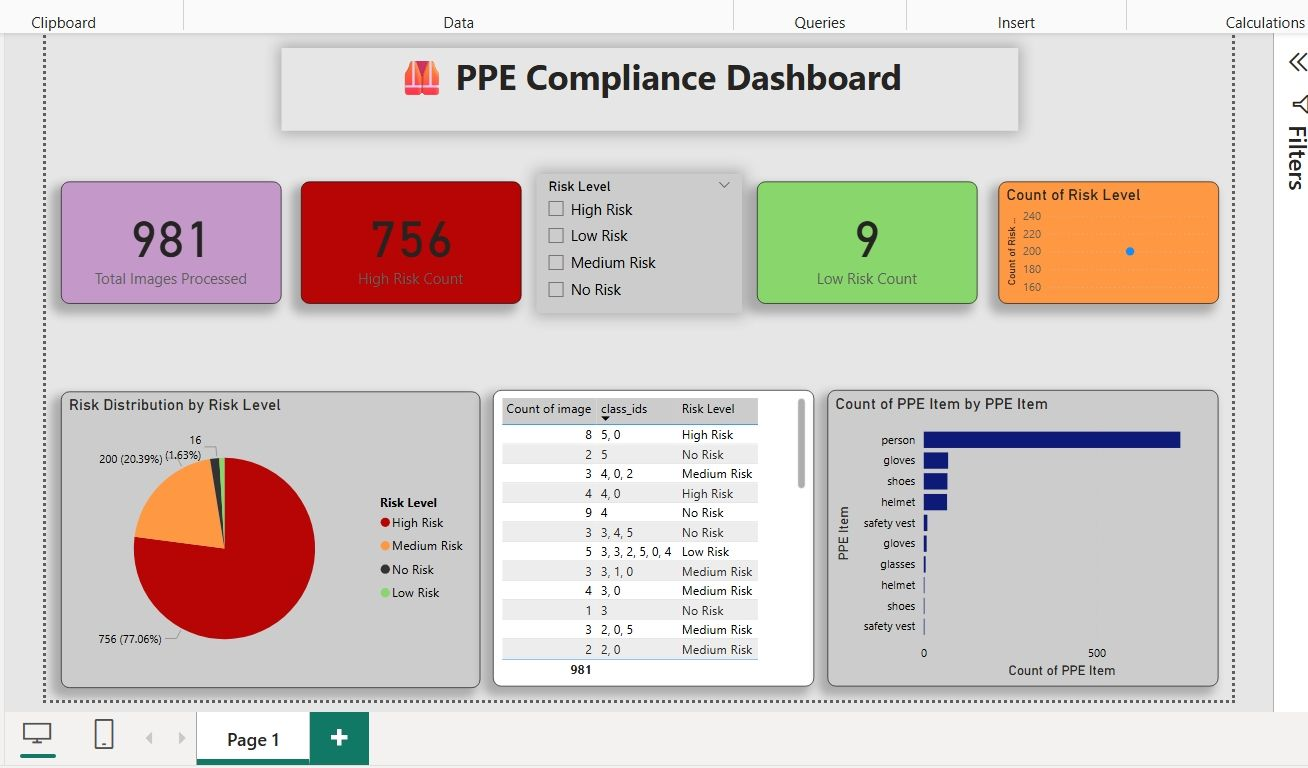

The page's visual inventory and layout, read from the dashboard file:
{"tool":"powerbi","page":{"name":"Page 1","canvas":[1280,720],"ordinal":0},"visuals":[{"type":"textbox","box":[253.9,16.1,795.5,89.4],"z":0},{"type":"card","fields":{"Values":["CountNonNull(Sheet1.image)"]},"box":[16.1,160.9,237.8,132.3],"z":1000},{"type":"card","fields":{"Values":["CountNonNull(Sheet1.Risk Level)"]},"box":[275.3,160.9,237.8,132.3],"z":2000},{"type":"stackedAreaChart","fields":{"Y":["CountNonNull(Sheet1.Risk Level)"]},"box":[1027.9,160.9,237.8,132.3],"z":3000},{"type":"card","fields":{"Values":["CountNonNull(Sheet1.Risk Level)"]},"box":[766.9,160.9,237.8,132.3],"z":4000},{"type":"pieChart","fields":{"Category":["Sheet1.Risk Level"],"Y":["CountNonNull(Sheet1.Risk Level)"]},"box":[16.2,386.4,452.6,320.3],"z":5000},{"type":"tableEx","fields":{"Values":["Sheet1.image","Sheet1.class_ids","Sheet1.Risk Level"]},"box":[482.7,386.1,346.8,320],"z":6000},{"type":"barChart","fields":{"Category":["Sheet1.PPE Item"],"Y":["CountNonNull(Sheet1.PPE Item)"]},"box":[843.8,386.1,421.9,320],"z":7000},{"type":"slicer","fields":{"Values":["Sheet1.Risk Level"]},"box":[529.2,152,221.7,150.2],"z":8000}]}

Visuals, with their boxes on the page's 1280x720 design canvas (x1, y1, x2, y2). These are canvas units, not pixel positions in the 1308x768 screenshot, which may show the page scaled, cropped or inside an application window:
textbox: x1=254, y1=16, x2=1049, y2=106
card - CountNonNull(Sheet1.image): x1=16, y1=161, x2=254, y2=293
card - CountNonNull(Sheet1.Risk Level): x1=275, y1=161, x2=513, y2=293
stackedAreaChart - CountNonNull(Sheet1.Risk Level): x1=1028, y1=161, x2=1266, y2=293
card - CountNonNull(Sheet1.Risk Level): x1=767, y1=161, x2=1005, y2=293
pieChart - Sheet1.Risk Level x CountNonNull(Sheet1.Risk Level): x1=16, y1=386, x2=469, y2=707
tableEx - Sheet1.image x Sheet1.class_ids: x1=483, y1=386, x2=830, y2=706
barChart - Sheet1.PPE Item x CountNonNull(Sheet1.PPE Item): x1=844, y1=386, x2=1266, y2=706
slicer - Sheet1.Risk Level: x1=529, y1=152, x2=751, y2=302
